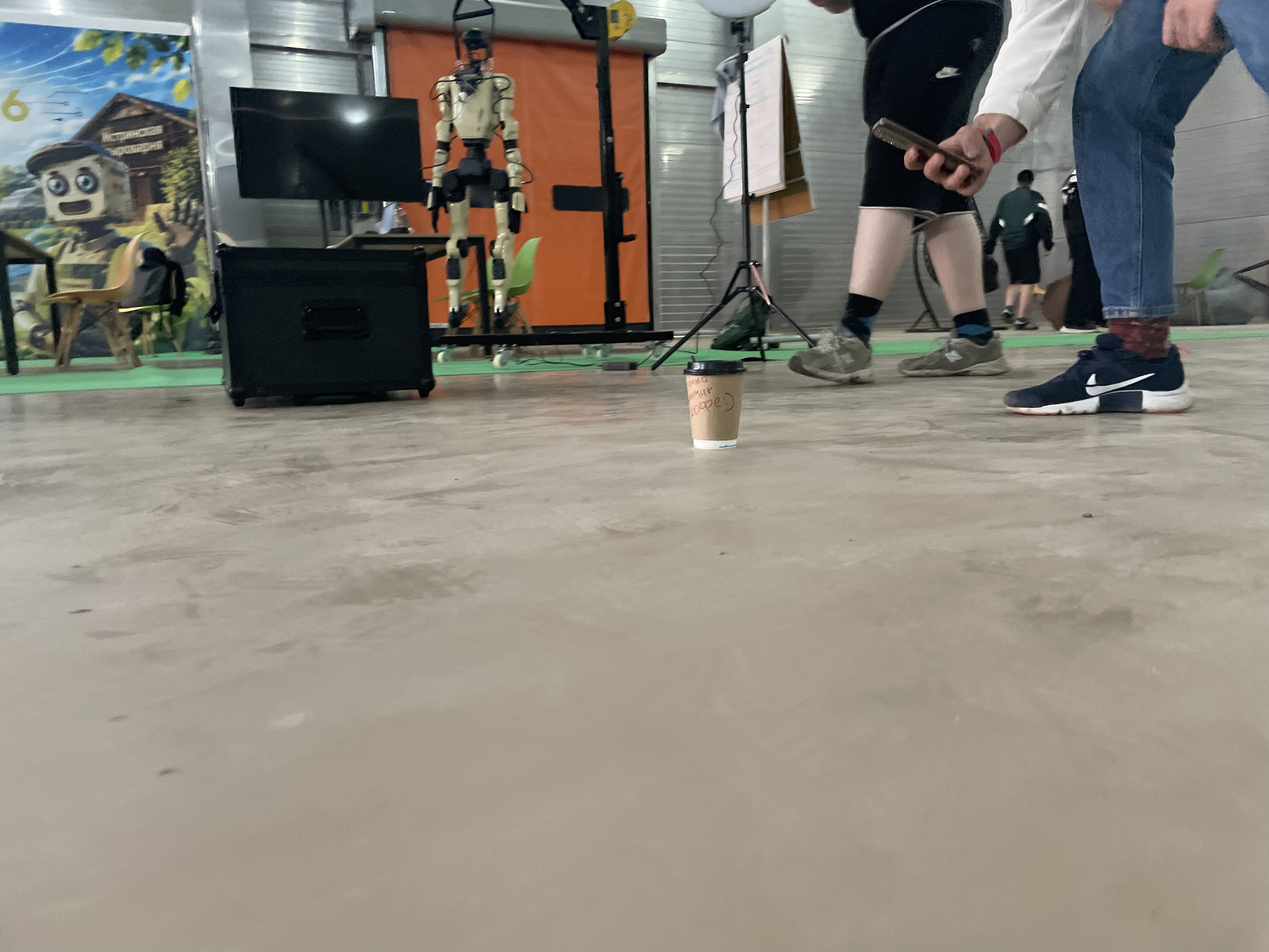cup: (684, 355, 745, 448)
